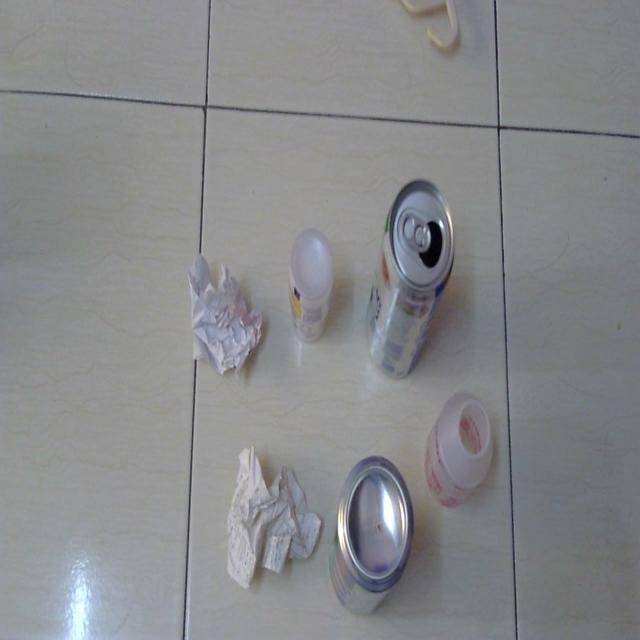metal_standrotation: (361, 168, 453, 382), (328, 449, 416, 624)
paperrotation: (216, 431, 322, 588), (180, 239, 272, 381)
plastic_standrotation: (423, 385, 498, 522), (280, 220, 345, 359)
